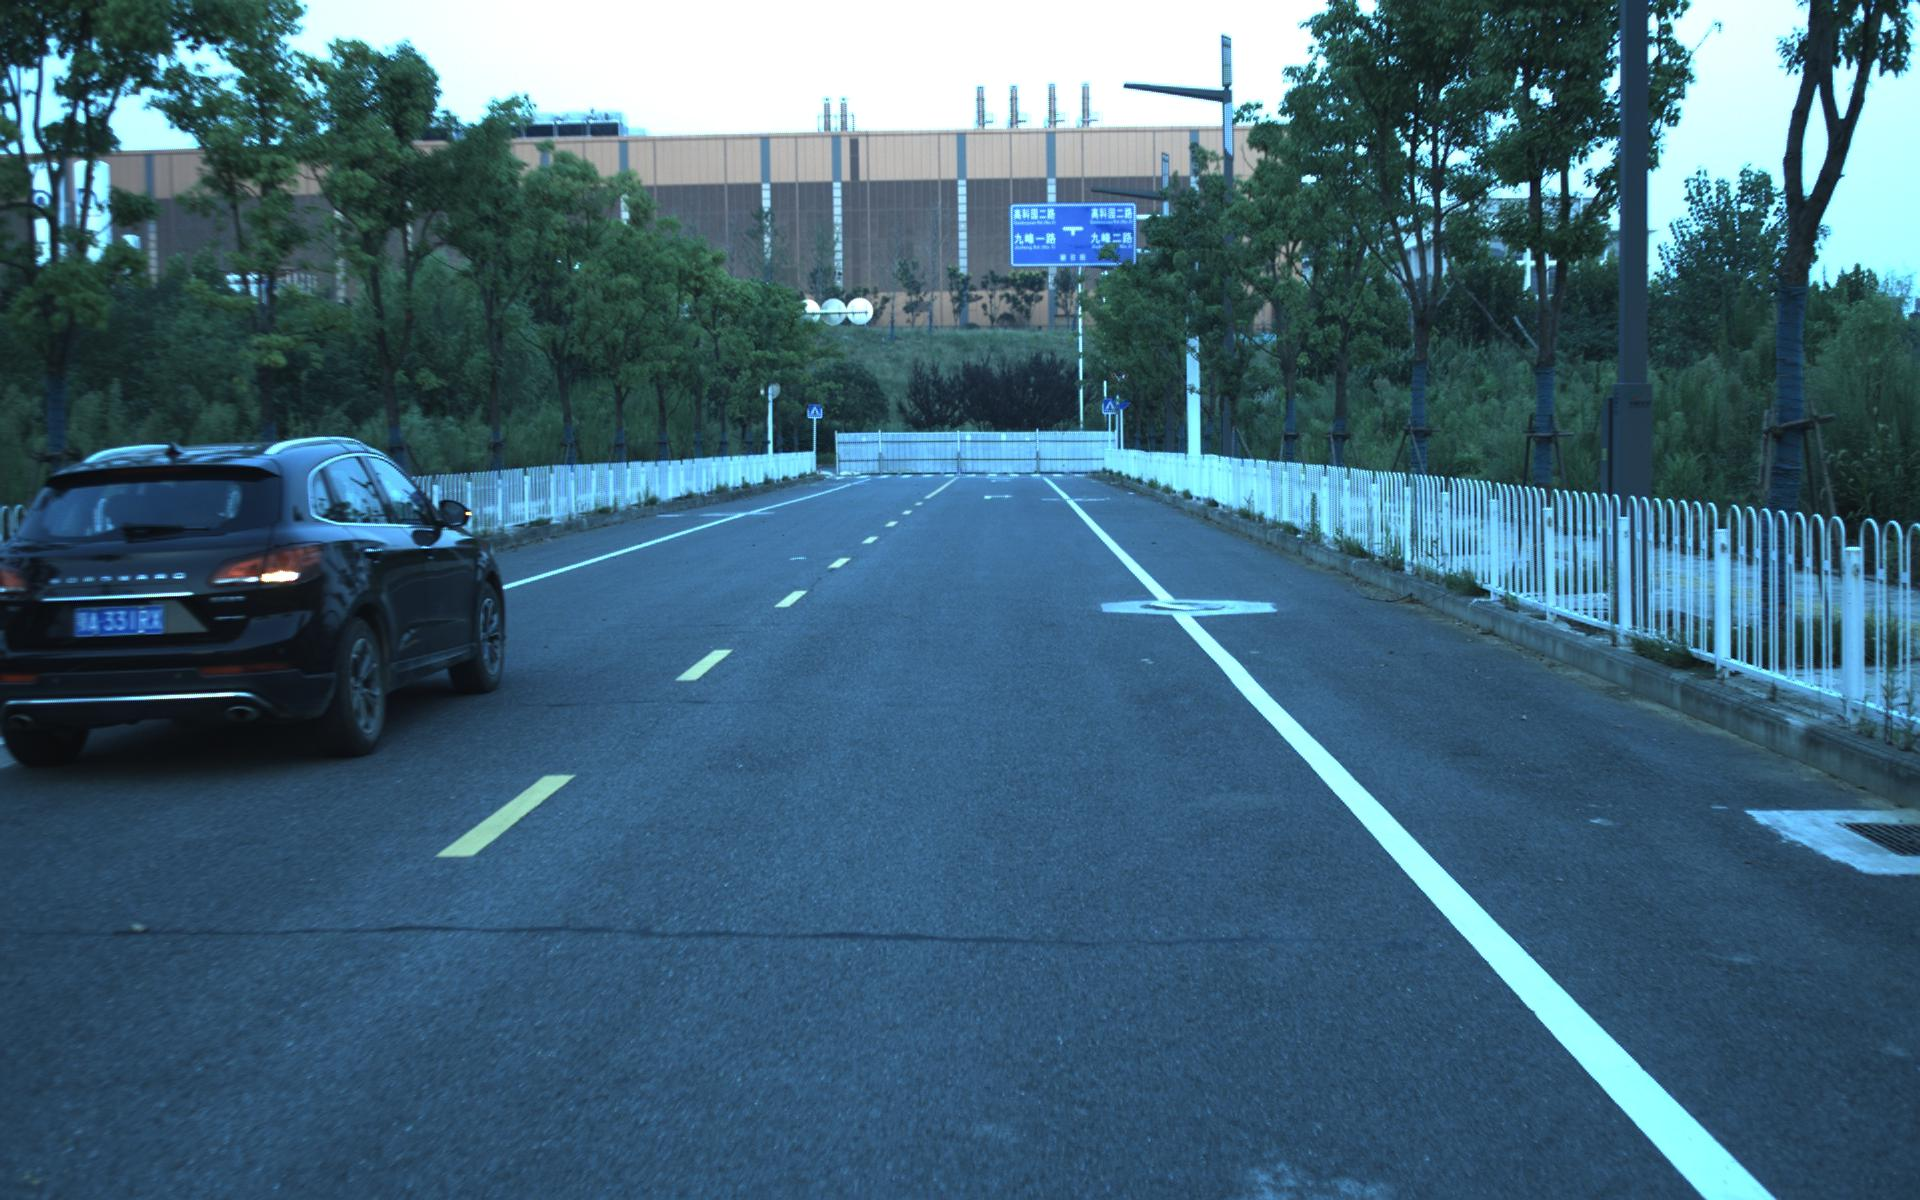Car: (1, 423, 514, 777)
